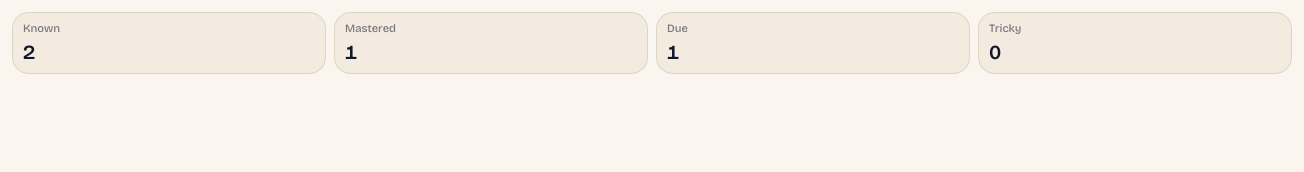
Test case: when there is nothing to show › says why a figure is empty rather than showing a blank panel
Click the button "Tricky 0" at (1005, 28), box [978, 12, 1292, 74]
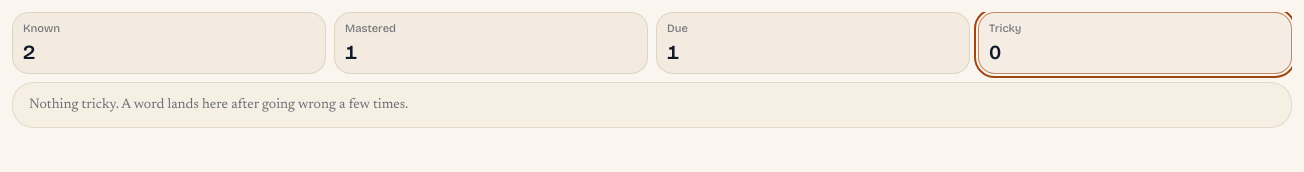
expect the text "going wrong a few times" is shown: met, box [29, 98, 408, 112]
